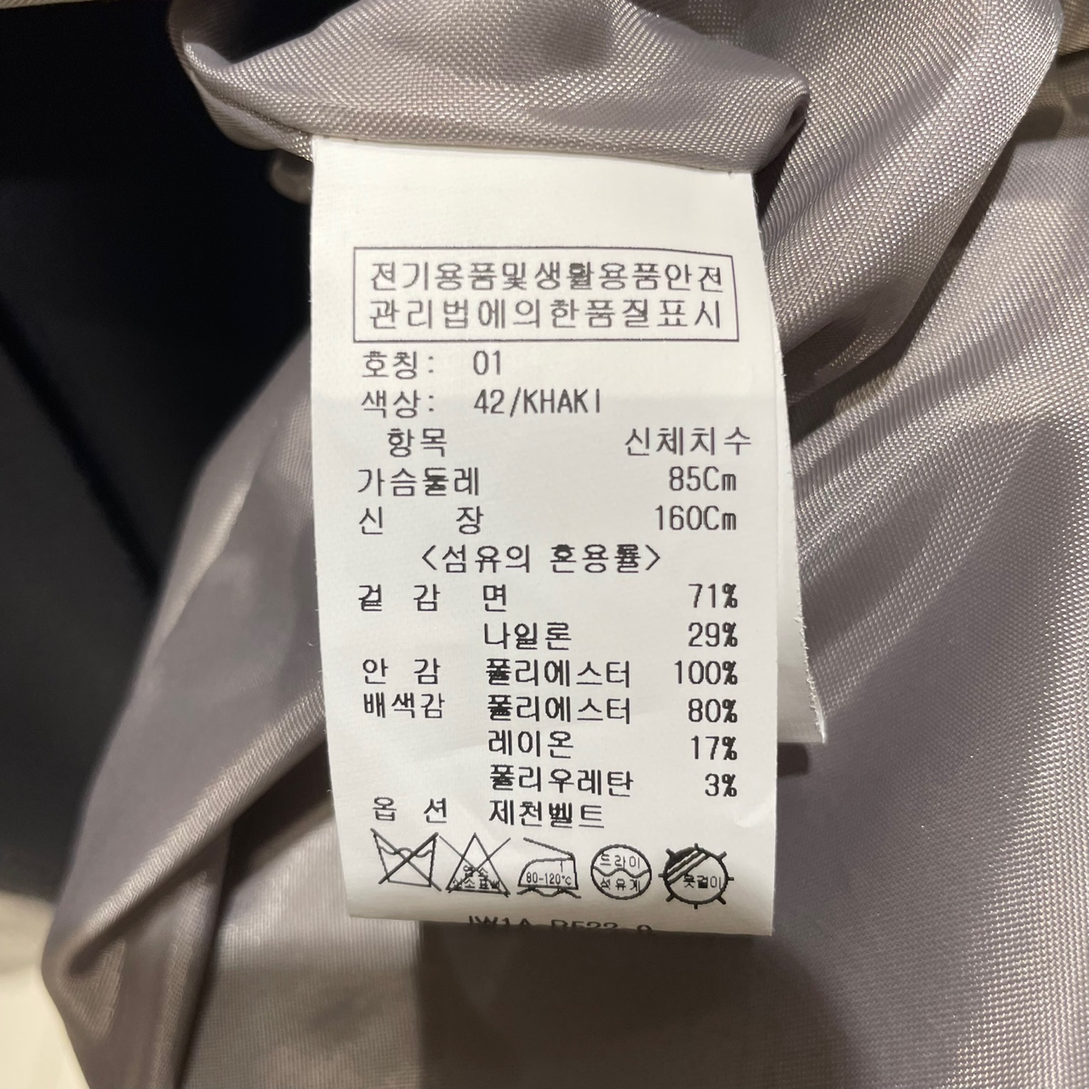KR_hang_dry_in_shade: (659, 840, 735, 911)
KR_iron_low_temp_with_cloth: (515, 836, 580, 899)
KR_no_bleach: (439, 827, 514, 901)
KR_no_dry_clean: (584, 837, 657, 906)
KR_no_wash: (367, 826, 441, 895)
